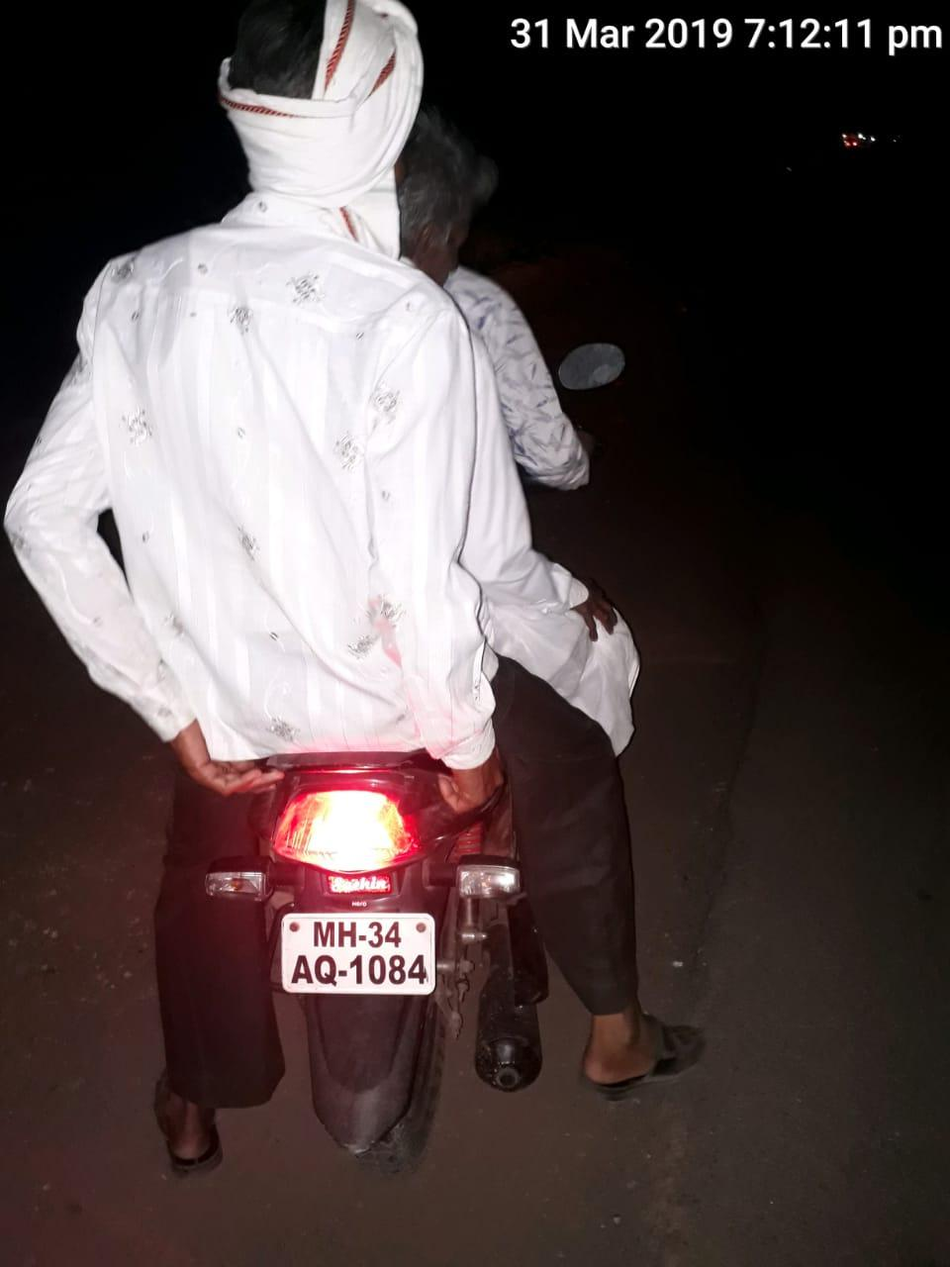plate: (250, 894, 450, 1008)
